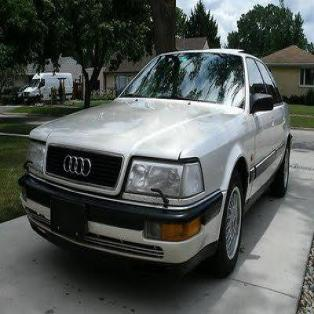Auto: (14, 47, 294, 279)
